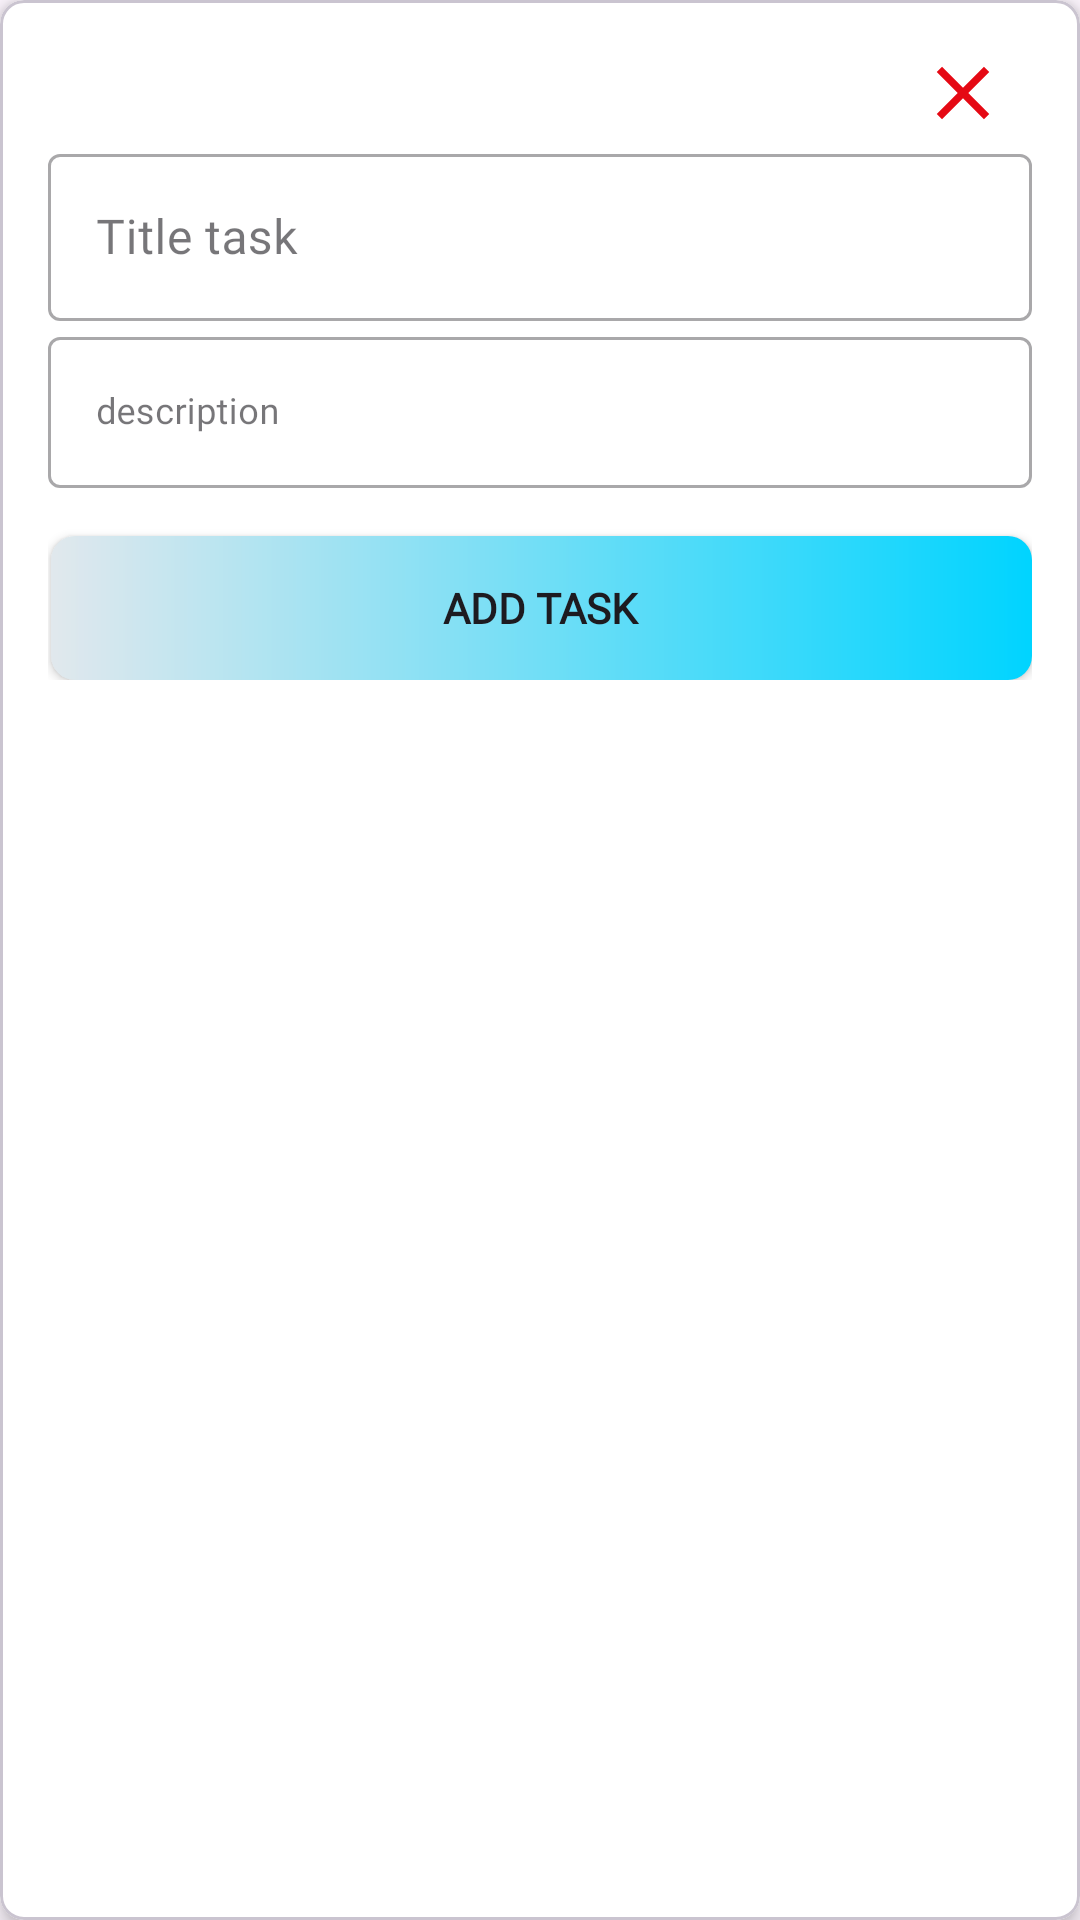

Where icons sit on this 1080×1920 app screen, as (x1, y1, x2, y2):
close: (937, 67, 989, 119)
